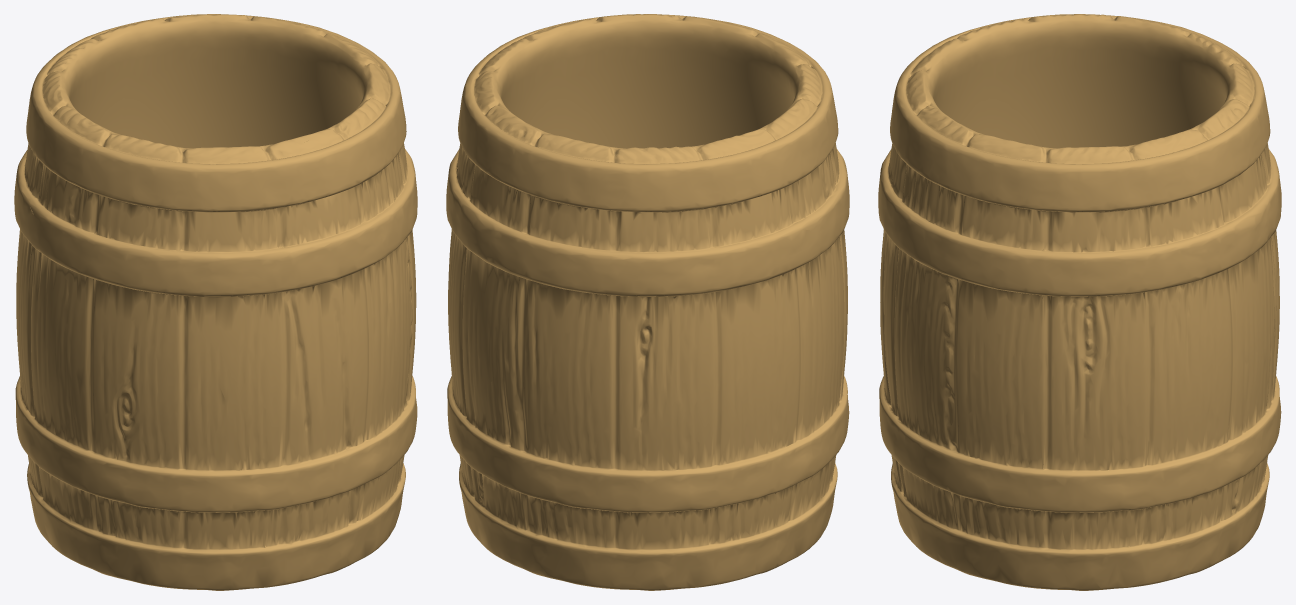
3 renders of one model, left to right at view 1: azimuth 30°, elevation 25°; view 2: azimuth 150°, elevation 25°; view 3: azimuth 270°, elevation 25°, orthographic.
Visible parts, largest first — view 1: Cup_Barrel01.1; view 2: Cup_Barrel01.1; view 3: Cup_Barrel01.1.
Boxes of the visible parts, x1=… form: Cup_Barrel01.1: x1=14, y1=14, x2=417, y2=590; Cup_Barrel01.1: x1=446, y1=14, x2=849, y2=590; Cup_Barrel01.1: x1=878, y1=14, x2=1281, y2=590.
Bounding box in the file's own units: 0.8461 × 1.02 × 0.8459.
1 material, 1 textured.
